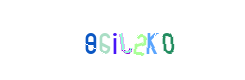2: (90, 0, 170, 80)
6: (77, 0, 157, 80)
8: (50, 0, 130, 80)
I: (77, 0, 157, 80)
K: (103, 0, 183, 80)
L: (82, 0, 162, 80)
O: (128, 0, 208, 80)
